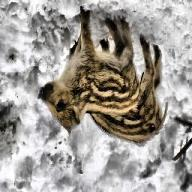boar: (38, 7, 167, 146)
